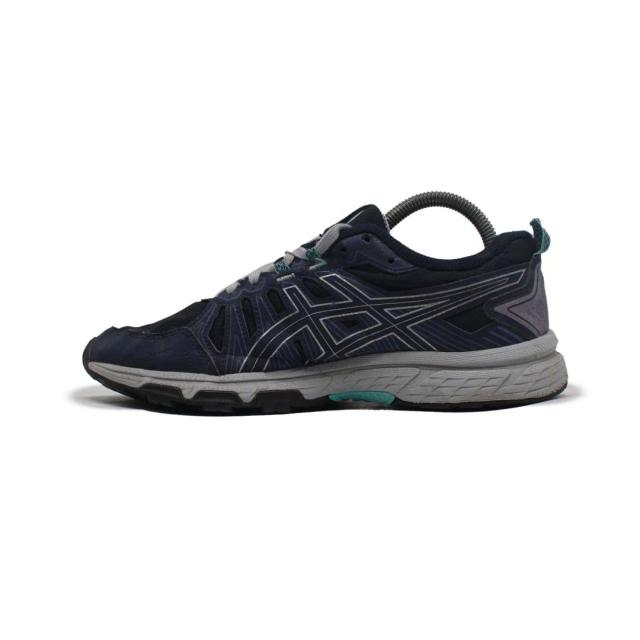heel: (530, 216, 570, 359)
midsole: (88, 334, 578, 413)
uppersole: (76, 208, 528, 364)
